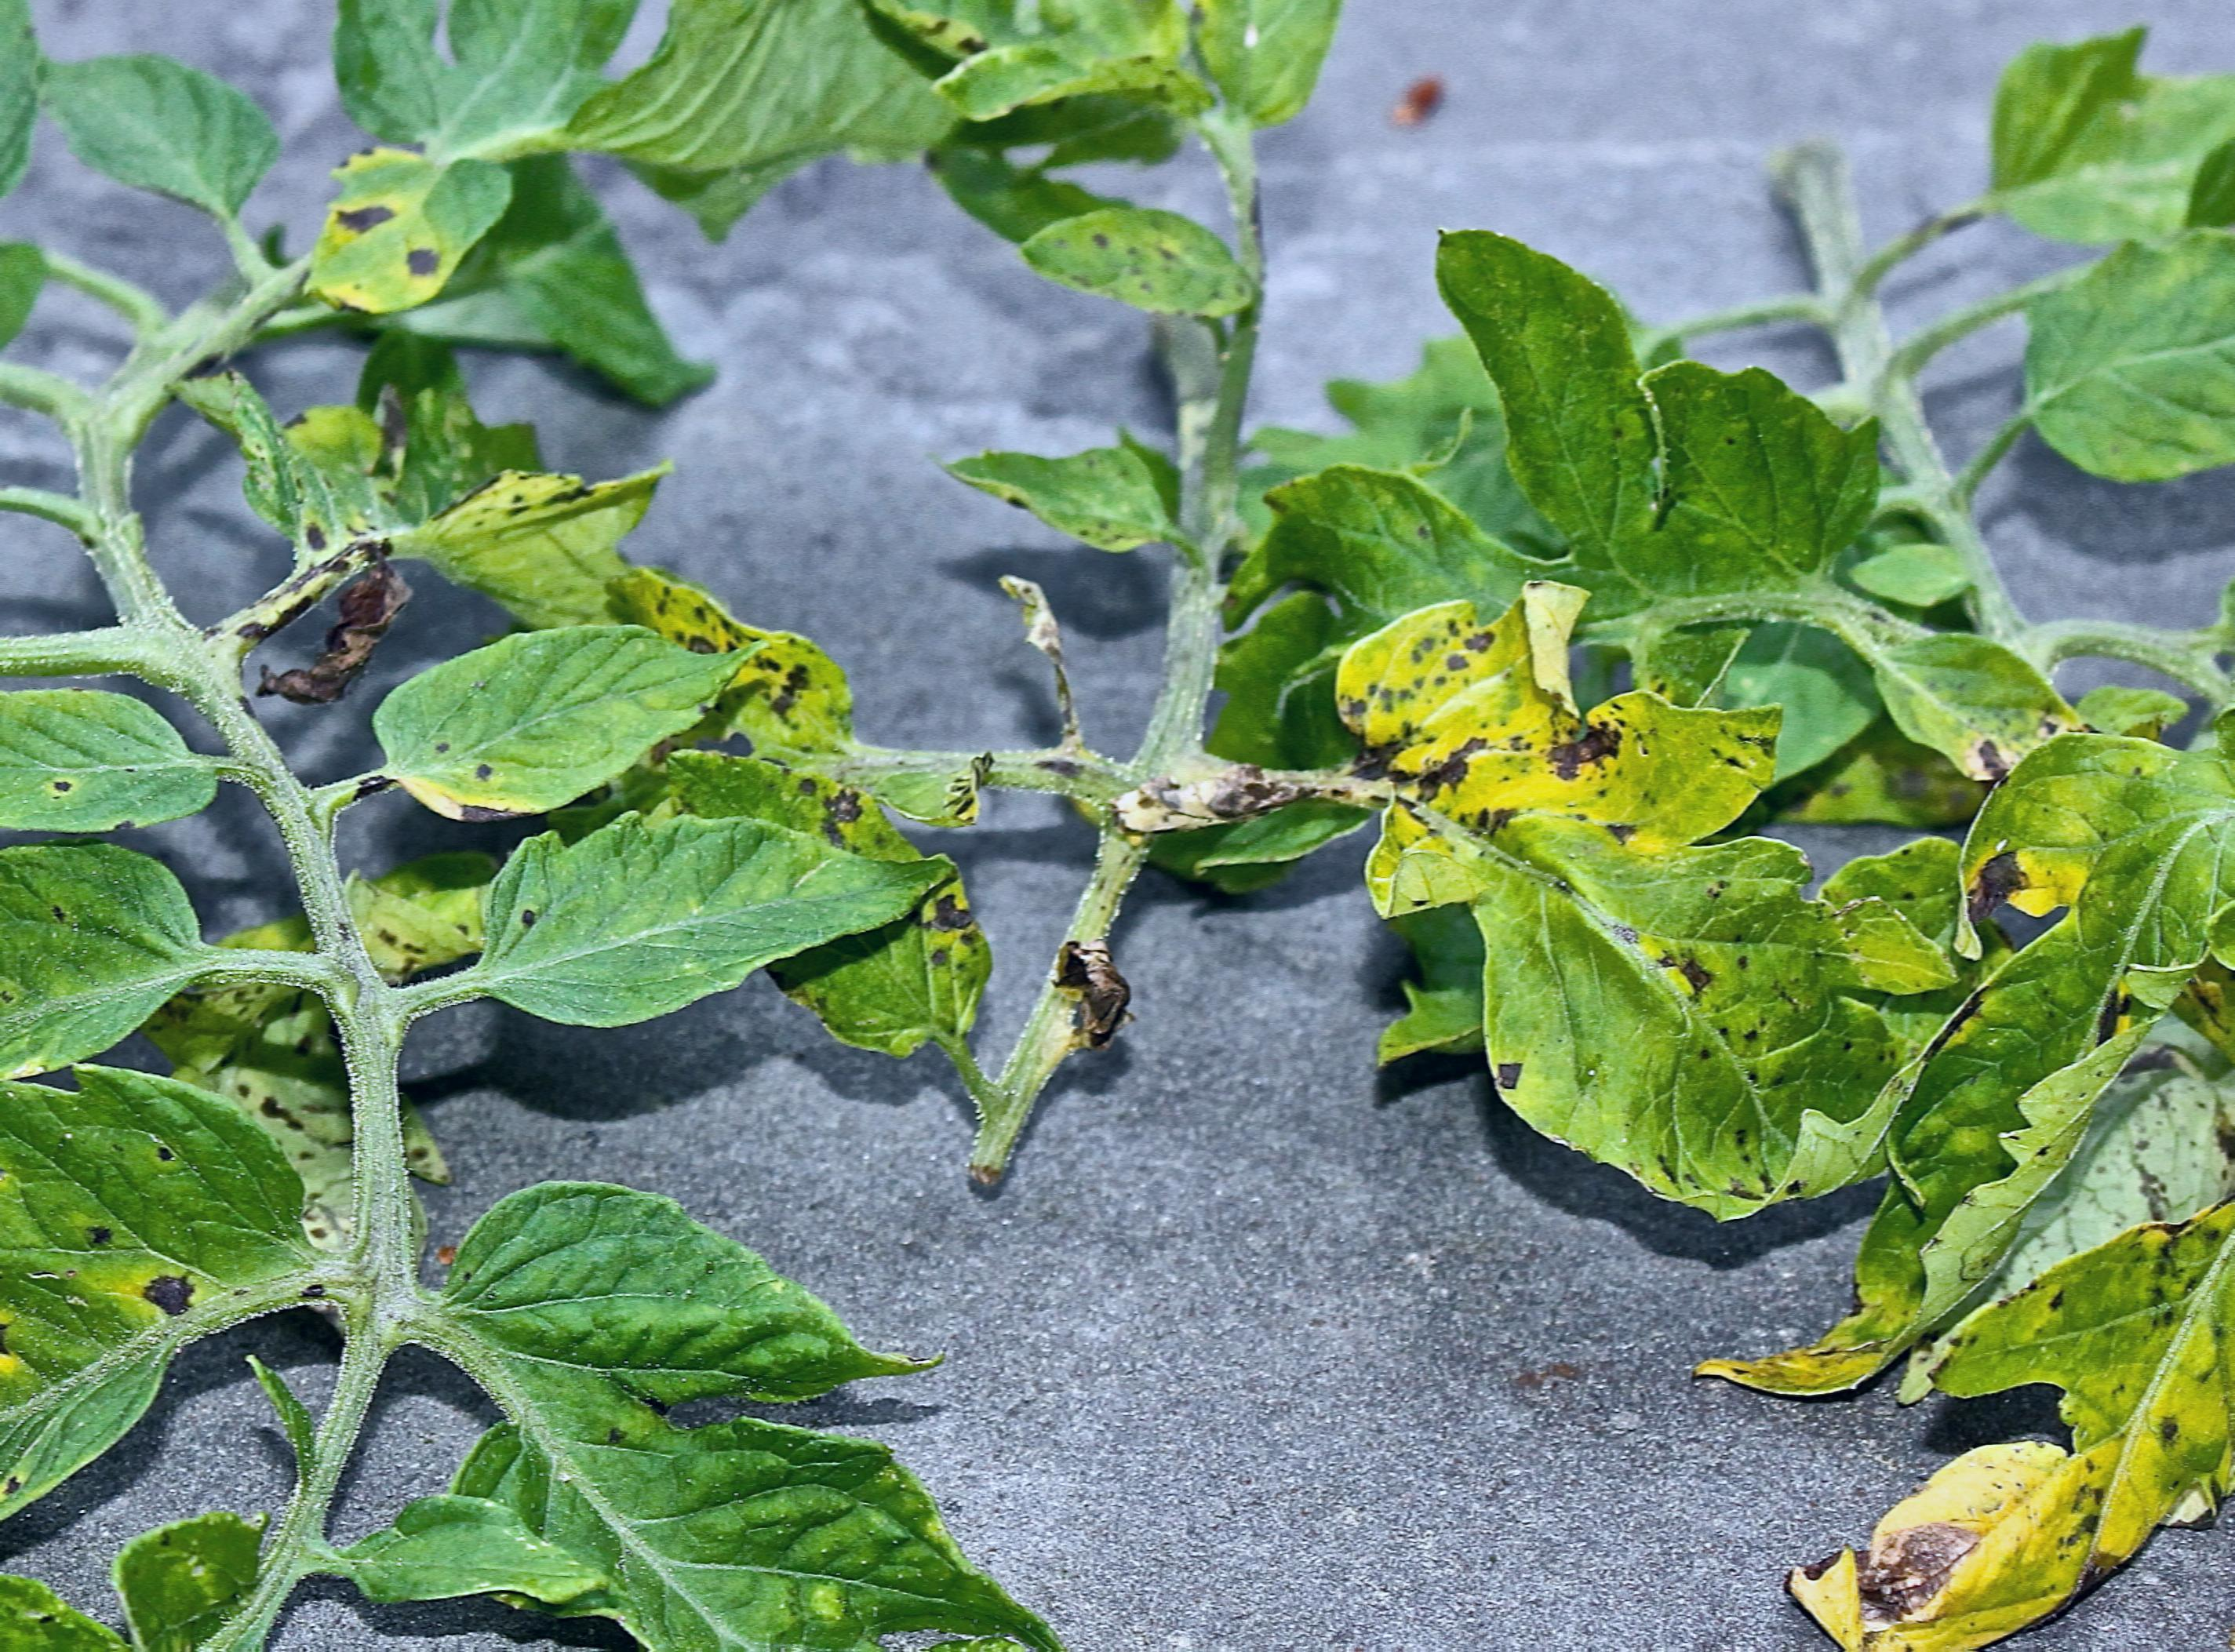Tomato Septoria leaf spot: (1270, 626, 1897, 1201), (404, 1213, 1168, 1652), (1777, 1100, 2235, 1652), (0, 1079, 335, 1579)
